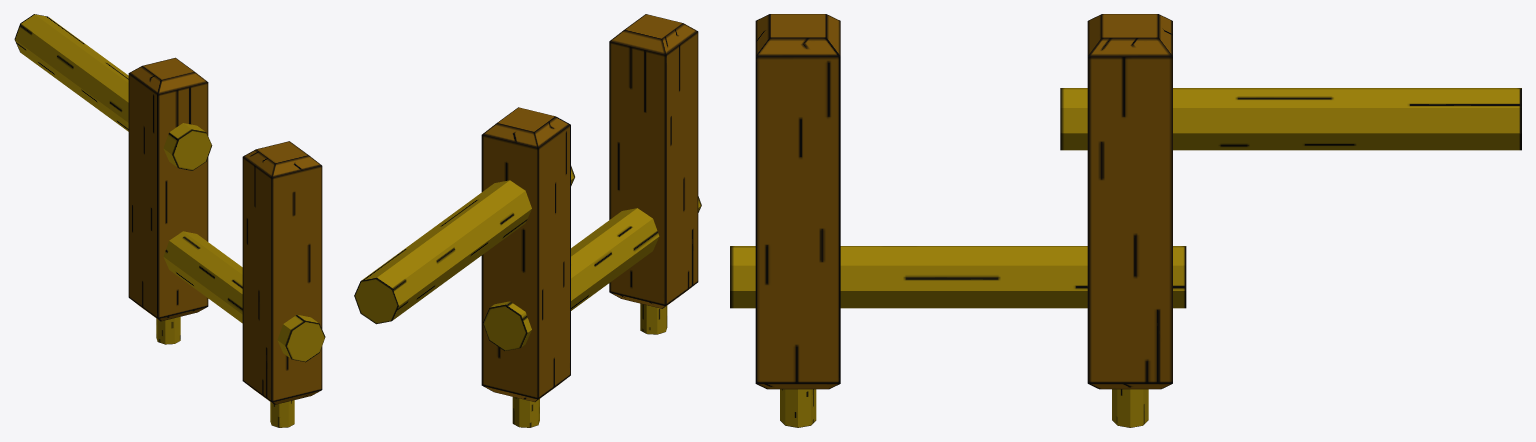
Rendered from Fence1_1_Part.glb.
3 renders of one model, left to right at view 1: azimuth 30°, elevation 25°; view 2: azimuth 150°, elevation 25°; view 3: azimuth 270°, elevation 25°, orthographic. The views are drawn at different scales.
Parts seen in each view (by area): view 1: Fence1_1_Part; view 2: Fence1_1_Part; view 3: Fence1_1_Part.
Boxes of the visible parts, box(x1,y1,x2,y2) form: Fence1_1_Part: box(14, 14, 325, 427); Fence1_1_Part: box(354, 14, 701, 427); Fence1_1_Part: box(730, 14, 1521, 427).
Bounding box in the file's own units: 0.2561 × 1.31 × 2.38.
1 material, 1 textured.
